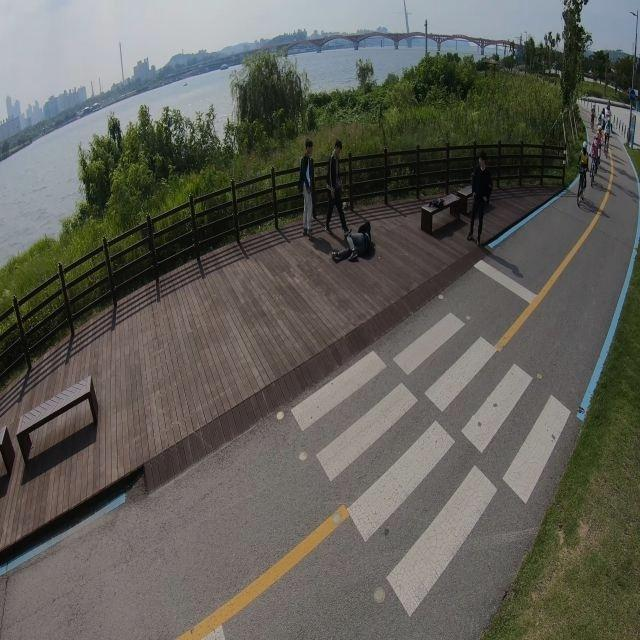non-fight: (326, 141, 350, 234), (467, 155, 490, 246), (332, 222, 372, 262), (300, 137, 315, 237)
